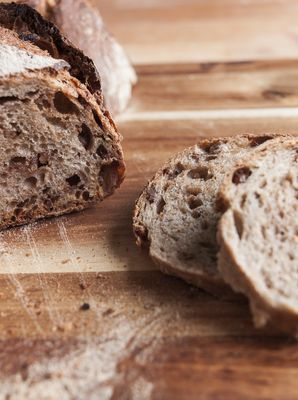salad: (131, 132, 297, 336)
sushi: (132, 131, 298, 336), (0, 1, 128, 236)
